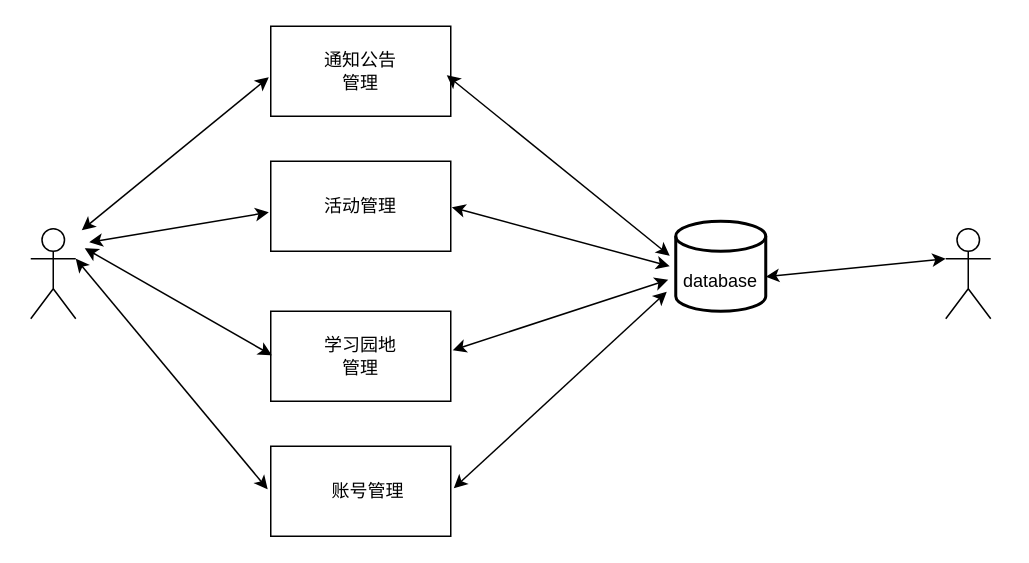
The diagram is 1029 pixels wide and 563 high, and some of its shapes have lost their labels. The centre of each missing label's shape, as x and y in pixels:
"参赛人员" belongs at [967,273].
"管理员" belongs at [52,273].
